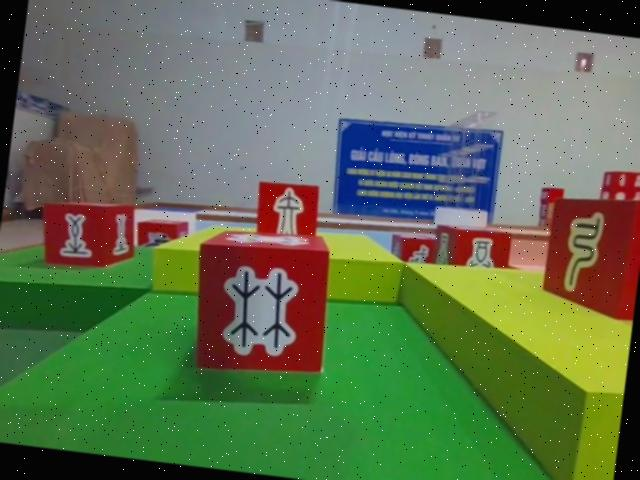R1: (132, 212, 191, 259)
R2 Fake: (535, 188, 640, 319), (251, 177, 323, 242)
R2 Real: (181, 217, 340, 379), (33, 191, 142, 283), (426, 219, 512, 278)
